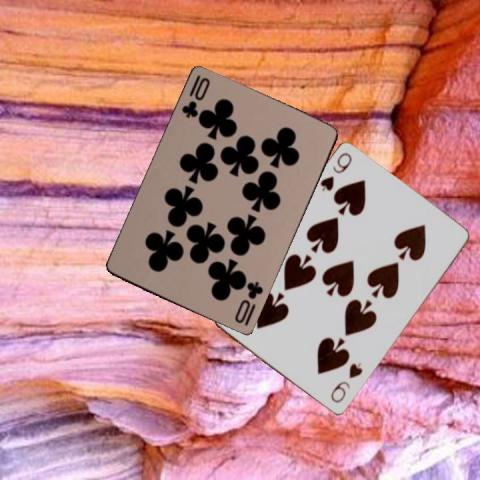10c: (231, 279, 265, 328), (179, 72, 212, 121)
9s: (327, 360, 364, 405), (317, 150, 354, 194)
